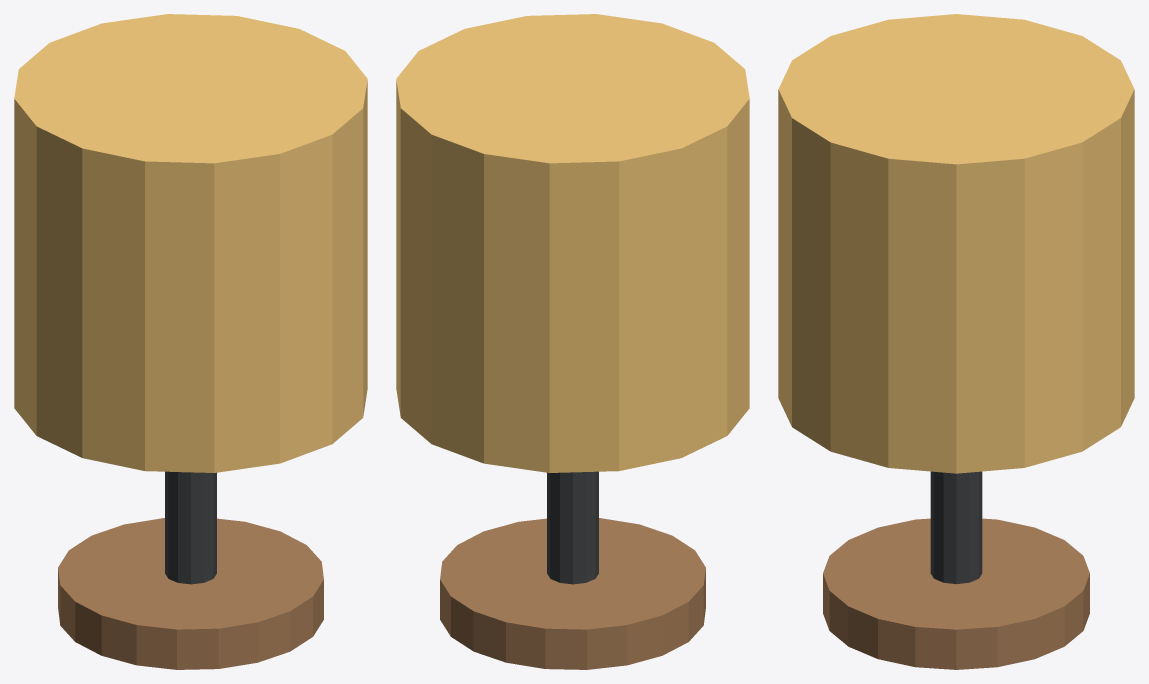
The model's file is PROP_WarmWood_Lamp_Paper.glb.
3 views of the same model, side by side, from view 1: azimuth 30°, elevation 25°; view 2: azimuth 150°, elevation 25°; view 3: azimuth 270°, elevation 25° (orthographic).
Parts seen in each view (by area): view 1: Lamp_Shade, Lamp_Base, Lamp_Stem; view 2: Lamp_Shade, Lamp_Base, Lamp_Stem; view 3: Lamp_Shade, Lamp_Base, Lamp_Stem.
Boxes of the visible parts, box(x1,y1,x2,y2) form: Lamp_Shade: box(14, 14, 367, 472); Lamp_Base: box(58, 518, 323, 669); Lamp_Stem: box(165, 471, 216, 584); Lamp_Shade: box(396, 14, 749, 472); Lamp_Base: box(440, 518, 705, 669); Lamp_Stem: box(547, 471, 598, 584); Lamp_Shade: box(778, 14, 1134, 473); Lamp_Base: box(823, 518, 1089, 669); Lamp_Stem: box(930, 471, 982, 584).
Bounding box in the file's own units: 0.48 × 0.78 × 0.48.
